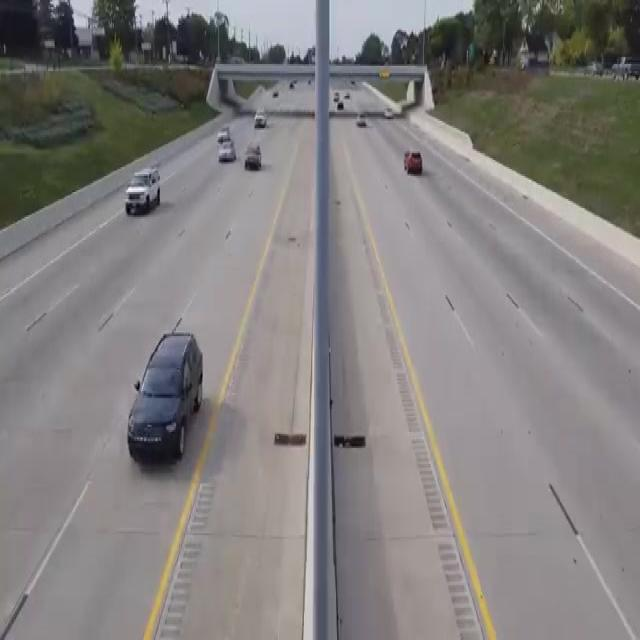car: (126, 314, 197, 470), (131, 168, 166, 226), (243, 140, 267, 190), (404, 145, 429, 193), (215, 140, 238, 172), (254, 104, 273, 137), (220, 122, 234, 156), (356, 113, 368, 137)
